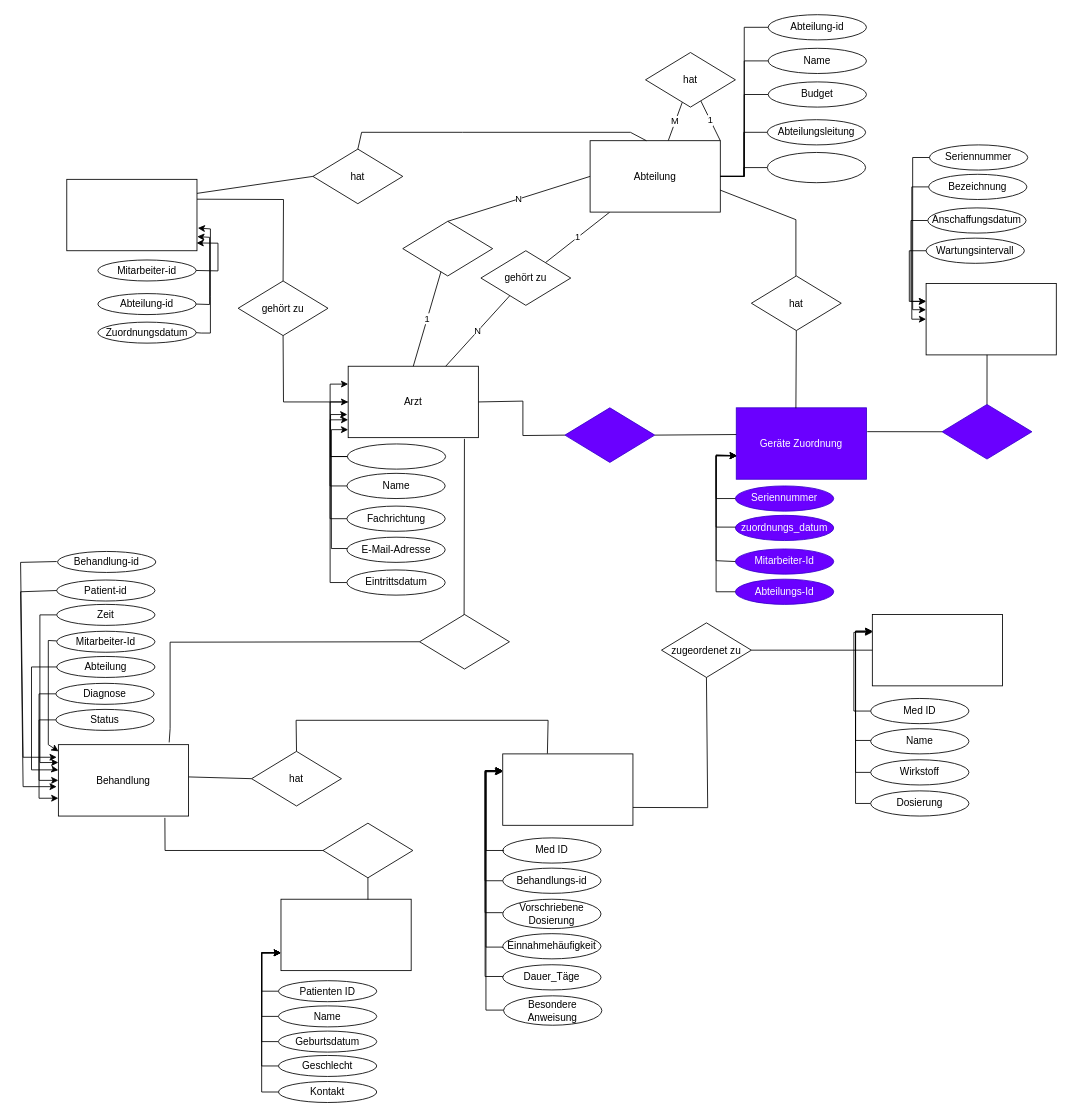
Some shapes in this 1071 by 1117 pixel diagram are drawn without their labels. The centre of each missing label's shape, as x and y in pixels:
"bearbeitet" belongs at pixel 464 641.
"befindet in" belongs at pixel 986 431.
"geht zur" belongs at pixel 367 850.
"Geräte" belongs at pixel 990 319.
"leitet" belongs at pixel 447 248.
"Medikamente" belongs at pixel 937 650.
"Medikamentenrezept" belongs at pixel 567 789.
"Mitarbeiter ID" belongs at pixel 396 456.
"Oberabteilung (parent)" belongs at pixel 816 167.
"Patienten" belongs at pixel 345 934.
"schiebt" belongs at pixel 609 434.
"Ärzten Zuordnung an Abteilungen" belongs at pixel 131 214.
